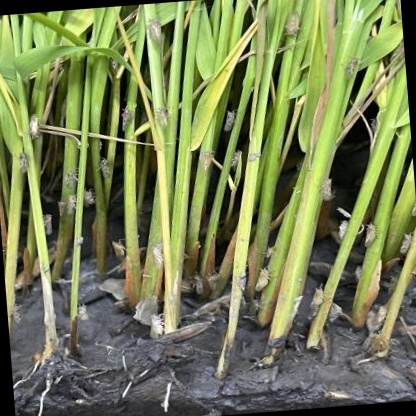Brown_hopper: (272, 9, 308, 40), (246, 264, 280, 295), (309, 176, 339, 211), (356, 330, 393, 358), (102, 236, 135, 265), (352, 221, 385, 250), (141, 310, 169, 342), (334, 55, 366, 82), (305, 285, 336, 312), (111, 106, 139, 135), (142, 15, 168, 46), (31, 212, 57, 242), (191, 149, 217, 178), (325, 218, 354, 244), (365, 305, 394, 330), (391, 230, 416, 258), (22, 115, 42, 149), (224, 150, 249, 176), (215, 110, 240, 135), (58, 167, 83, 192), (151, 105, 174, 131), (6, 303, 25, 331), (71, 303, 94, 326), (93, 158, 115, 181), (9, 152, 30, 176), (76, 188, 97, 211), (255, 245, 279, 263), (61, 192, 78, 210)
